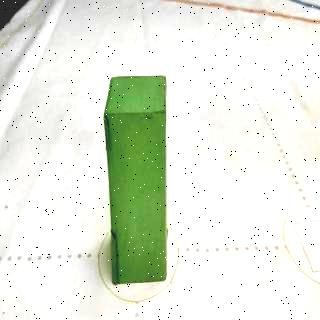greenbox: (102, 74, 170, 284)
